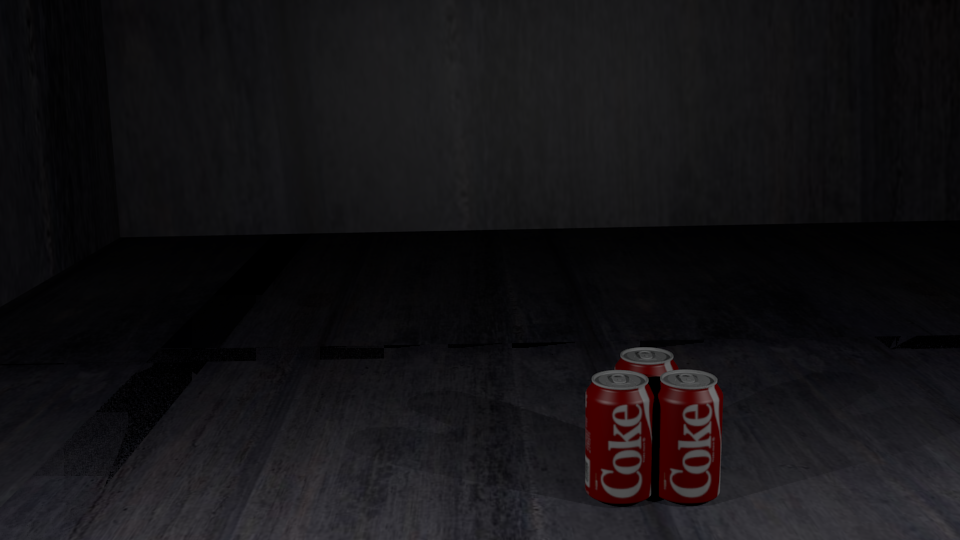cola_can: (653, 370, 722, 499), (586, 370, 653, 500), (615, 348, 678, 469)
